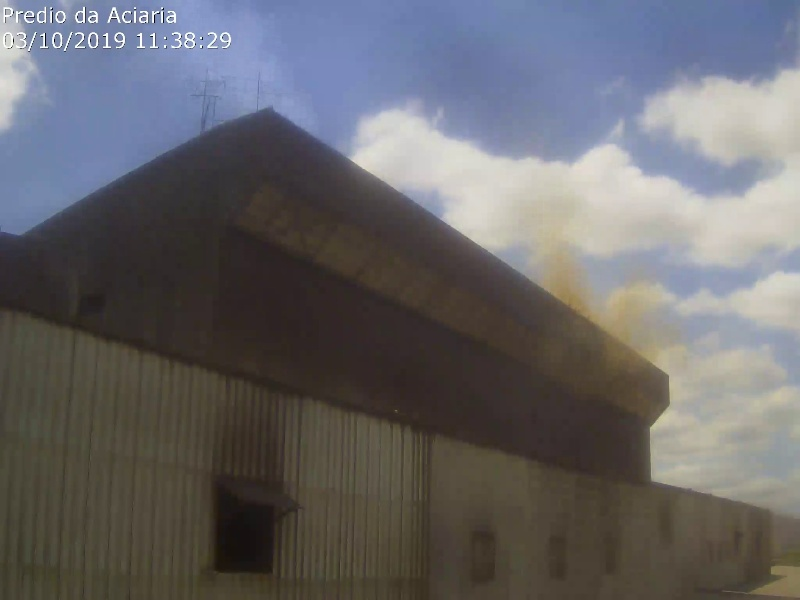bom: (255, 8, 512, 340), (24, 6, 248, 153)
ruim: (520, 174, 689, 425)
